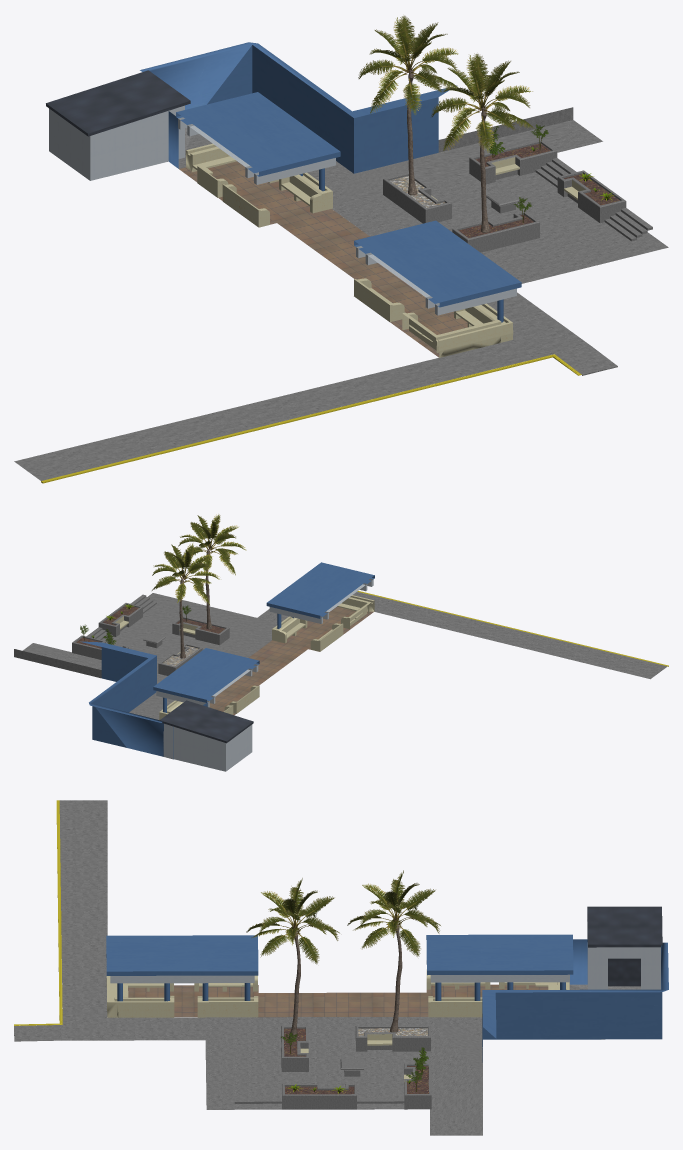
Rendered from USIT-BANCASOP.glb.
3 views of the same model, one above another, from view 1: azimuth 30°, elevation 25°; view 2: azimuth 150°, elevation 25°; view 3: azimuth 270°, elevation 25° (orthographic). The views are drawn at different scales.
Visible parts, largest first — view 1: Jardinera_04, Piso_Exterior, Palm, Techo_BancaA, Cuartito, Rampa_Estacionamiento, Small_Tree; view 2: Jardinera_04, Piso_Exterior, Techo_BancaA, Palm, Cuartito, Rampa_Estacionamiento; view 3: Jardinera_04, Piso_Exterior, Palm, Techo_BancaA, Cuartito, Rampa_Estacionamiento, Small_Tree.
Part boxes in pixels (x1=…): Jardinera_04: x1=14, y1=107, x2=668, y2=480; Piso_Exterior: x1=140, y1=42, x2=521, y2=357; Palm: x1=358, y1=15, x2=534, y2=232; Techo_BancaA: x1=49, y1=105, x2=516, y2=315; Cuartito: x1=46, y1=70, x2=190, y2=136; Rampa_Estacionamiento: x1=41, y1=354, x2=581, y2=483; Small_Tree: x1=489, y1=124, x2=614, y2=222; Jardinera_04: x1=14, y1=591, x2=667, y2=759; Piso_Exterior: x1=80, y1=562, x2=374, y2=759; Techo_BancaA: x1=156, y1=578, x2=373, y2=771; Palm: x1=152, y1=514, x2=246, y2=658; Cuartito: x1=160, y1=700, x2=253, y2=743; Rampa_Estacionamiento: x1=357, y1=591, x2=668, y2=666; Jardinera_04: x1=14, y1=800, x2=640, y2=1135; Piso_Exterior: x1=106, y1=934, x2=668, y2=1062; Palm: x1=246, y1=870, x2=440, y2=1039; Techo_BancaA: x1=110, y1=922, x2=660, y2=989; Cuartito: x1=587, y1=906, x2=662, y2=986; Rampa_Estacionamiento: x1=14, y1=800, x2=62, y2=1025; Small_Tree: x1=280, y1=1032, x2=428, y2=1093.
Bounding box in the file's own units: 0.4739 × 0.1133 × 0.3908.
12 materials, 12 textured.
